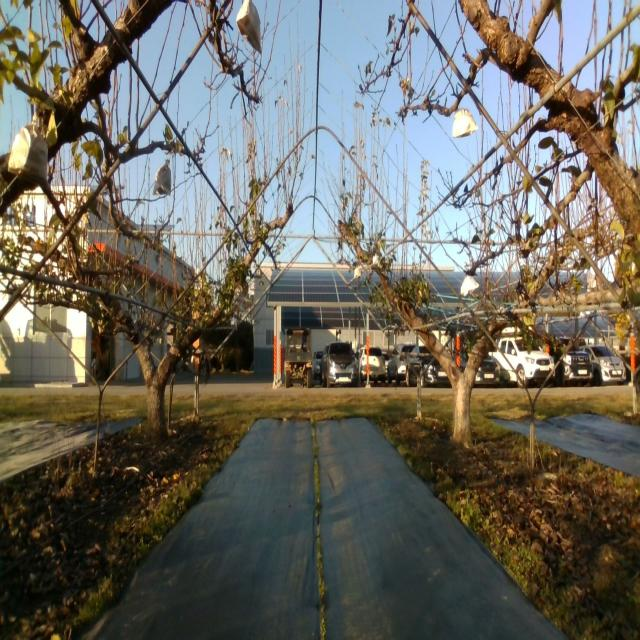pearbags: (7, 125, 48, 182), (235, 0, 262, 54), (452, 107, 478, 138), (153, 157, 172, 196), (460, 276, 480, 296)
